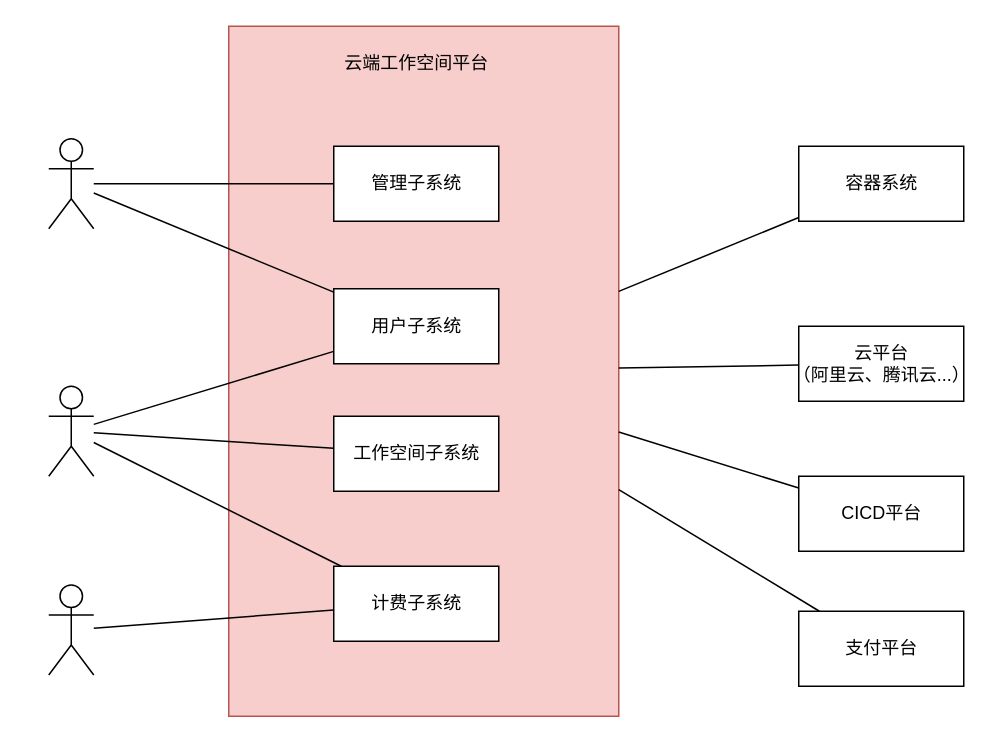
Some shapes in this 996 by 743 pixel diagram are drawn without their labels. The shapes that lost their labels are listed below. From the top down, each one's box as (x1, y1, x2, y2) in pixels, then its label:
(47, 137, 94, 229): 系统管理员
(47, 385, 94, 476): 开发者
(47, 584, 94, 675): 财务人员
